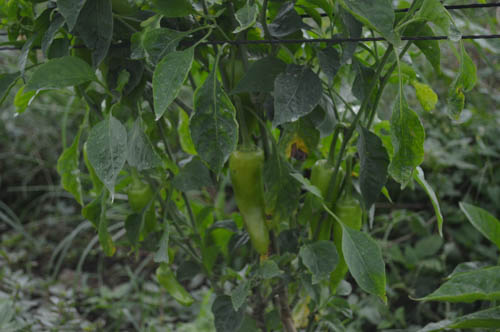ChiliPepper: (228, 134, 279, 258), (331, 194, 369, 301), (306, 157, 344, 246), (154, 265, 205, 311), (125, 179, 159, 241)
